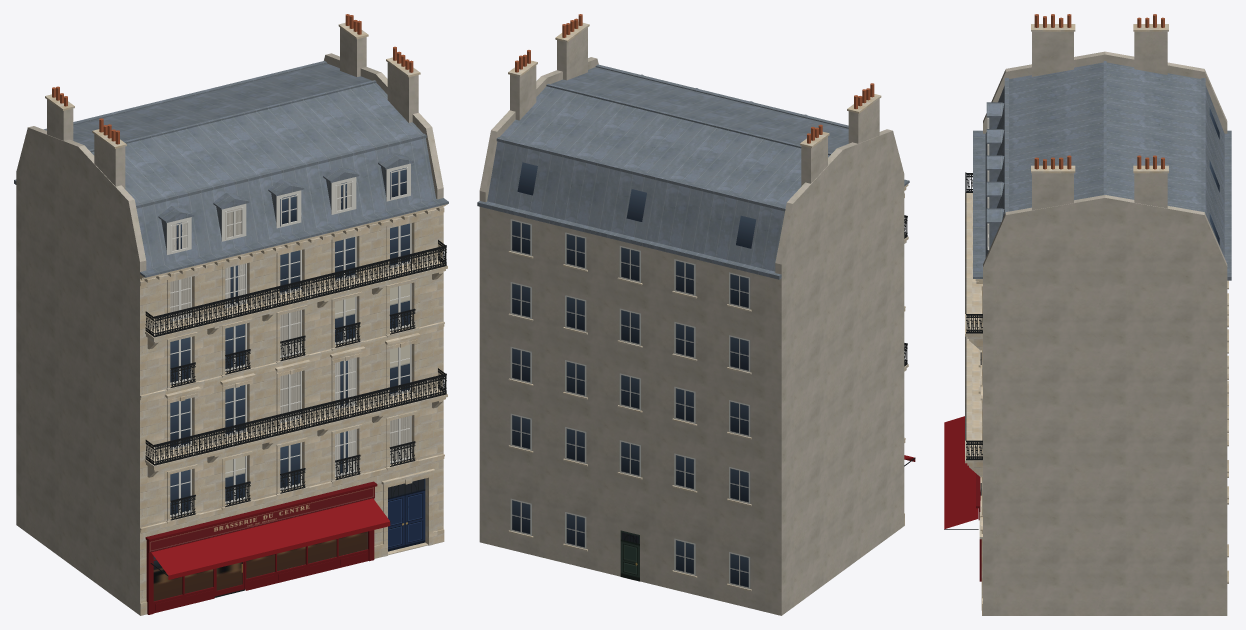
Rendered from immeuble_haussmannien_brasserie.glb.
The picture shows the model from 3 angles, left to right: view 1: azimuth 30°, elevation 25°; view 2: azimuth 150°, elevation 25°; view 3: azimuth 270°, elevation 25°; orthographic projection.
Parts seen in each view (by area): view 1: immeuble_haussmannien_brasserie; view 2: immeuble_haussmannien_brasserie; view 3: immeuble_haussmannien_brasserie.
Part boxes in pixels (bbox=[...]): immeuble_haussmannien_brasserie: bbox=[14, 14, 448, 615]; immeuble_haussmannien_brasserie: bbox=[477, 14, 915, 615]; immeuble_haussmannien_brasserie: bbox=[944, 14, 1231, 615].
Size of the model in its own units: 15.7 by 22.73 by 12.95.
12 materials, 6 textured.
